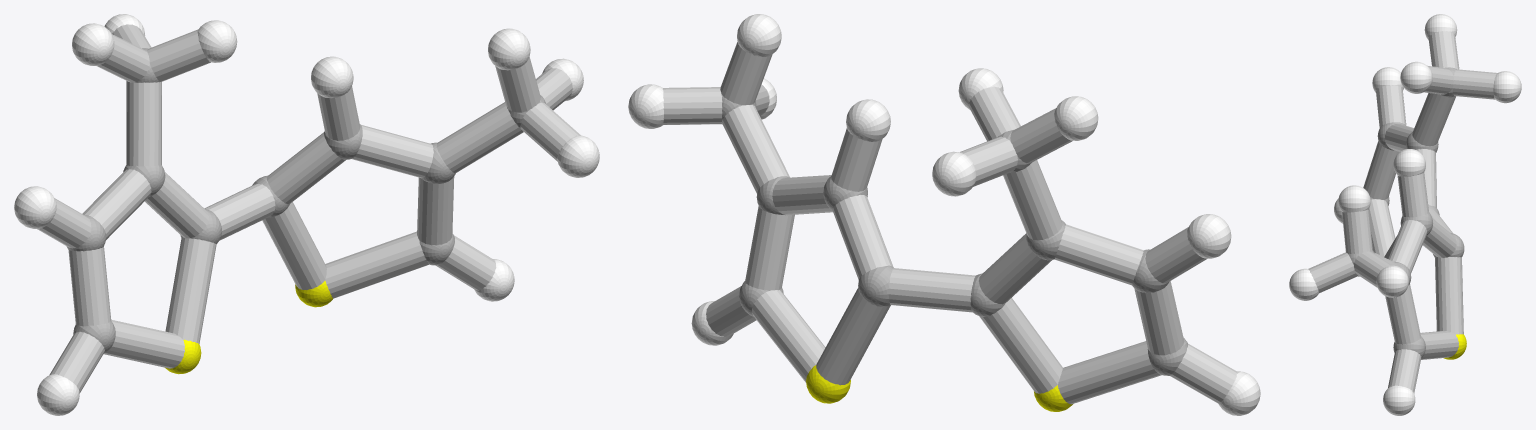
File: Methylthiophene_Phi_40_Theta_210_Methylthiophene.glb
The picture shows the model from 3 angles, left to right: view 1: azimuth 30°, elevation 25°; view 2: azimuth 150°, elevation 25°; view 3: azimuth 270°, elevation 25°; orthographic projection. The views are drawn at different scales.
Parts seen in each view (by area): view 1: grp7965, grp3621, grp1, grp7241; view 2: grp7965, grp3621, grp1, grp7241; view 3: grp7965, grp3621, grp1, grp7241.
Boxes of the visible parts, x1,y1,x2,y2 form: grp7965: [37, 24, 580, 393]; grp3621: [14, 14, 599, 415]; grp1: [66, 48, 546, 352]; grp7241: [165, 281, 332, 374]; grp7965: [663, 42, 1237, 404]; grp3621: [628, 14, 1260, 415]; grp1: [721, 95, 1188, 375]; grp7241: [806, 365, 1072, 411]; grp7965: [1308, 31, 1497, 393]; grp3621: [1289, 14, 1521, 415]; grp1: [1348, 67, 1464, 357]; grp7241: [1443, 334, 1466, 359].
Bounding box in the file's own units: 9.2 × 5.33 × 4.3.
